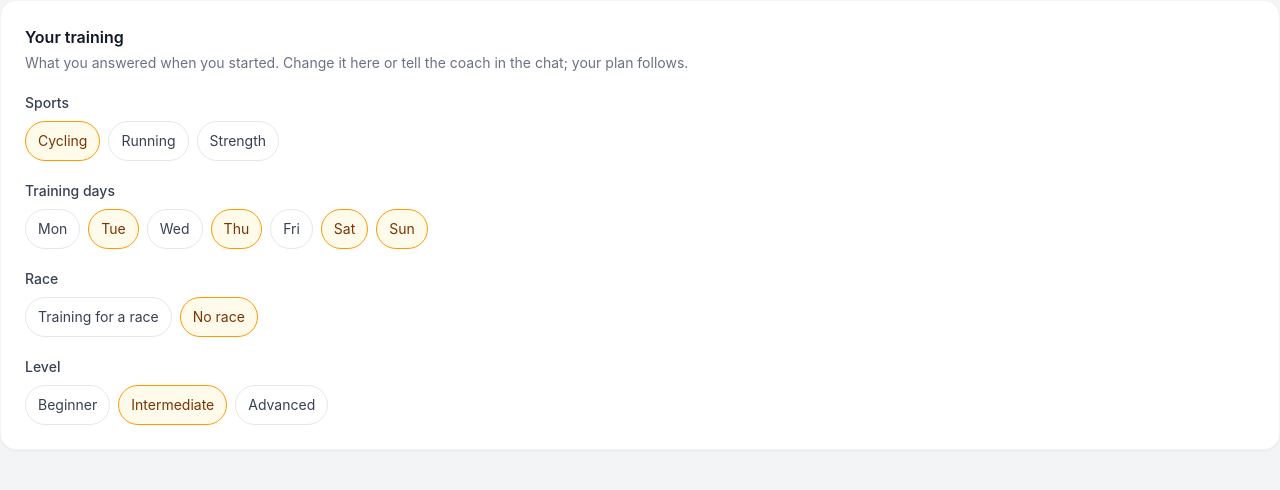
Test case: TrainingAnswersSettings (ai-trainer-ops#202) › says so when a save fails
What coordinates should you click on to do the following:
click the button "Advanced"
I would click on:
 (282, 405)
Its box is [235, 385, 328, 425].
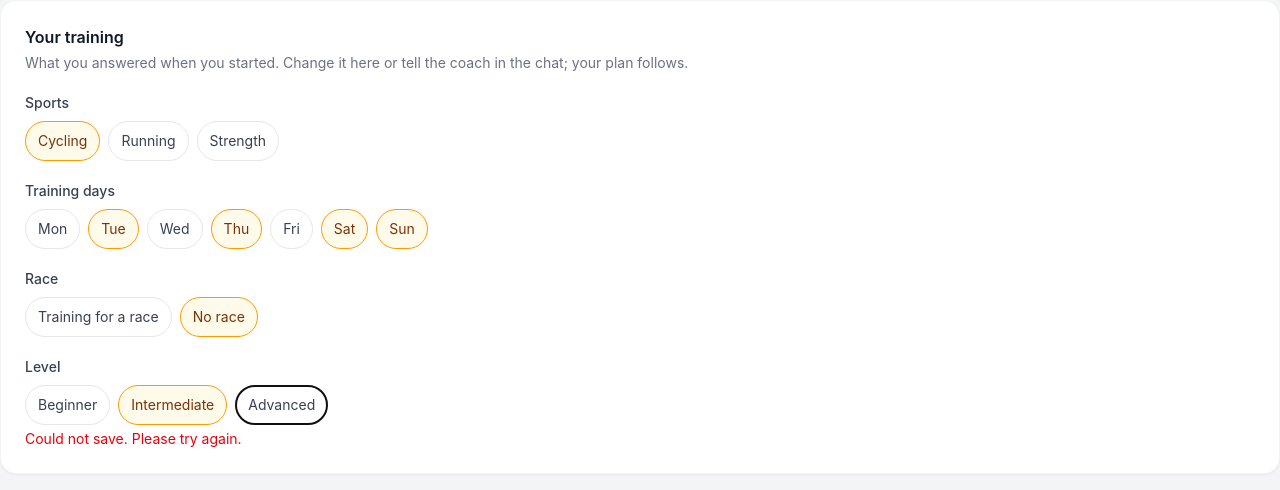
Check: the message reads "Could not save. Please try again.", box [25, 430, 242, 447]
